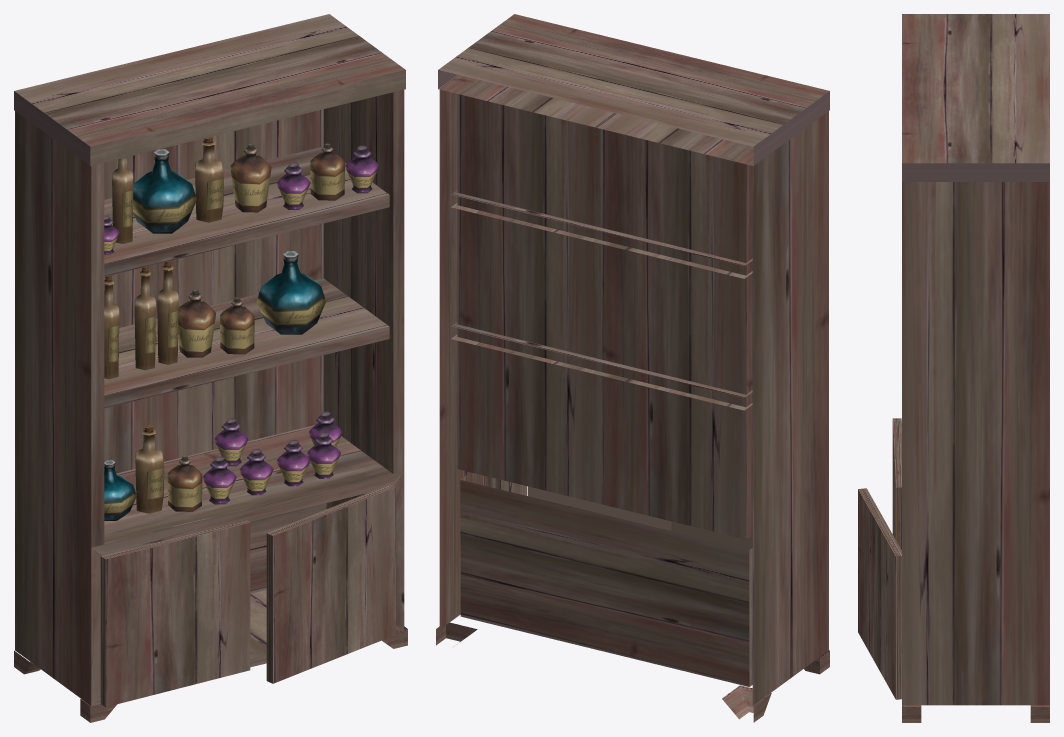
The model's file is shop_doctor_cabinet.fbx.
3 views of the same model, side by side, from view 1: azimuth 30°, elevation 25°; view 2: azimuth 150°, elevation 25°; view 3: azimuth 270°, elevation 25° (orthographic). The views are drawn at different scales.
Visible parts, largest first — view 1: cabinet_base, cabinet_crown, cabinet_base1, cabinet_base2, cabinet_shelf_3, cabinet_shelf_2, bottle_green2, bottle_green8, bottle_red, bottle_tan5, bottle_red6, bottle_tan (+16 smaller); view 2: cabinet_base, cabinet_crown, cabinet_shelf_3, cabinet_shelf_2, cabinet_base2, cabinet_foot_4, cabinet_base1; view 3: cabinet_base, cabinet_crown, cabinet_base2, cabinet_base1, cabinet_foot_3, cabinet_foot_2.
Boxes of the visible parts, x1,y1,x2,y2 form: cabinet_base: (15, 89, 404, 705); cabinet_crown: (14, 14, 405, 165); cabinet_base1: (100, 520, 250, 707); cabinet_base2: (266, 485, 395, 683); cabinet_shelf_3: (104, 278, 389, 408); cabinet_shelf_2: (104, 146, 389, 276); bottle_green2: (256, 251, 325, 334); bottle_green8: (133, 149, 196, 233); bottle_red: (230, 144, 271, 212); bottle_tan5: (135, 424, 164, 513); bottle_red6: (178, 289, 215, 357); bottle_tan: (195, 136, 223, 222); cabinet_base: (439, 89, 828, 705); cabinet_crown: (438, 14, 829, 165); cabinet_shelf_3: (451, 322, 752, 410); cabinet_shelf_2: (451, 190, 752, 278); cabinet_base2: (527, 486, 671, 530); cabinet_foot_4: (722, 685, 771, 722); cabinet_base1: (671, 521, 752, 549); cabinet_base: (902, 182, 1049, 705); cabinet_crown: (902, 14, 1049, 181); cabinet_base2: (858, 488, 901, 699); cabinet_base1: (892, 418, 901, 550); cabinet_foot_3: (902, 705, 921, 722); cabinet_foot_2: (1030, 705, 1049, 722).
Size of the model in its own units: 500 by 867 by 270.
Materials: 1 (1 with a texture image).
